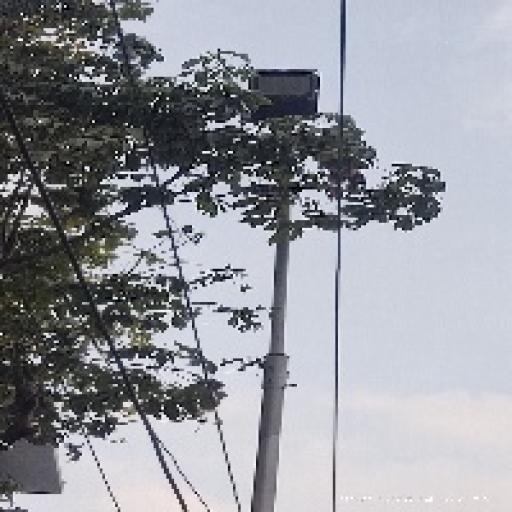Not Working: (236, 54, 333, 125)
